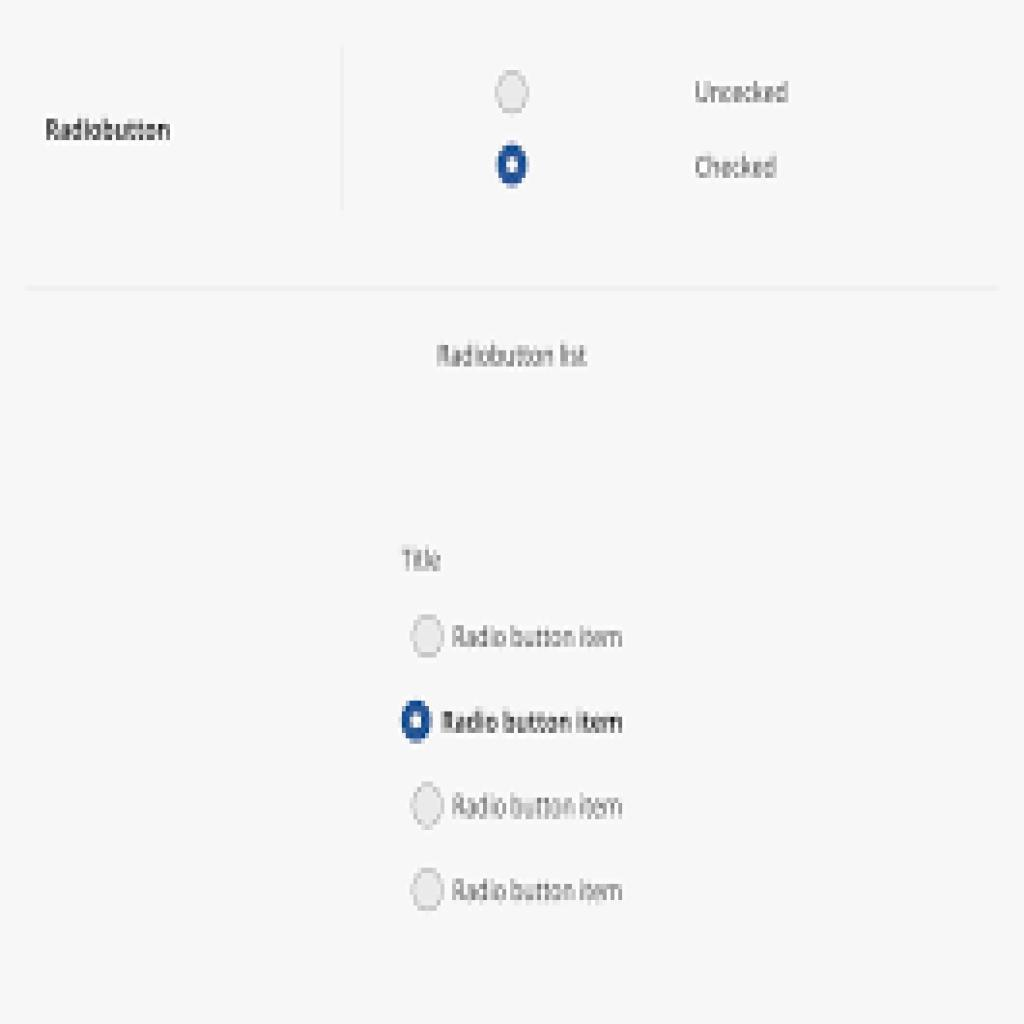label: (447, 788, 627, 823), (451, 873, 626, 909), (437, 707, 627, 739), (445, 621, 634, 653), (690, 150, 788, 181), (694, 77, 792, 107)
radio: (408, 851, 448, 932), (493, 137, 532, 195), (407, 776, 446, 834), (492, 65, 534, 118), (407, 610, 446, 665), (399, 691, 432, 749)
